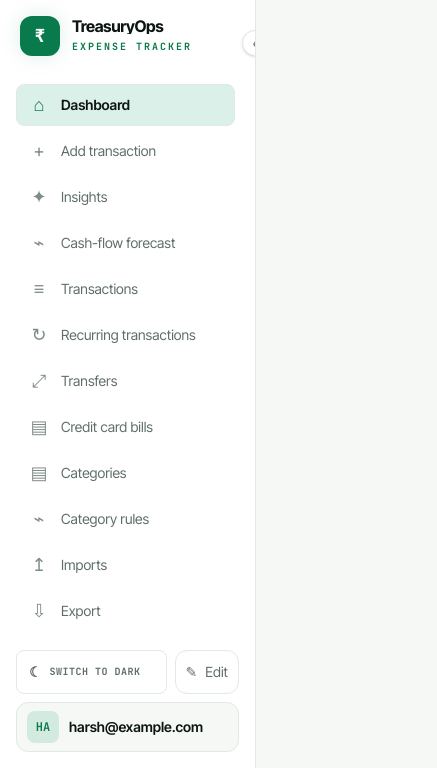
AppSidebar › exposes all items including hidden ones in edit mode
Expected: the link "Accounts" is not shown
Click the button with aria-label "Edit sidebar". click: (207, 672)
box: [175,650,239,694]
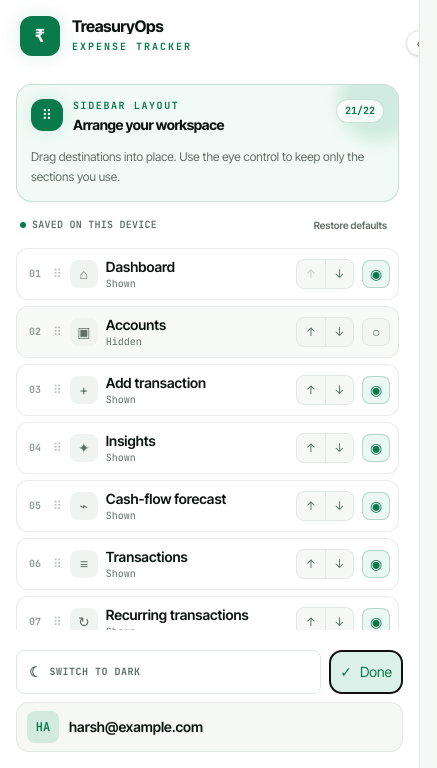
Expected: the button named "Show Accounts" is shown, [362,318,390,346]
